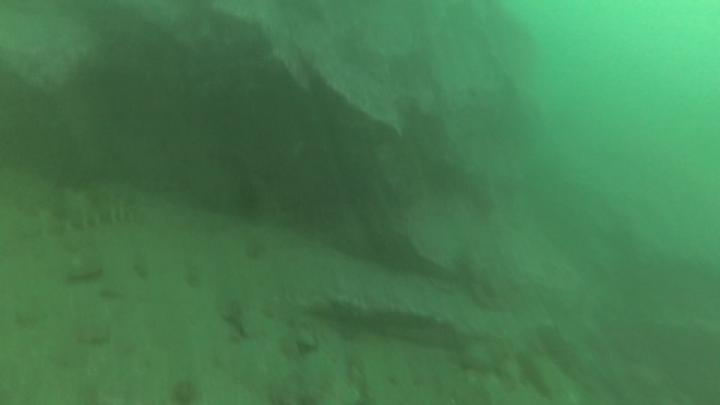holothurian: (18, 188, 155, 245)
